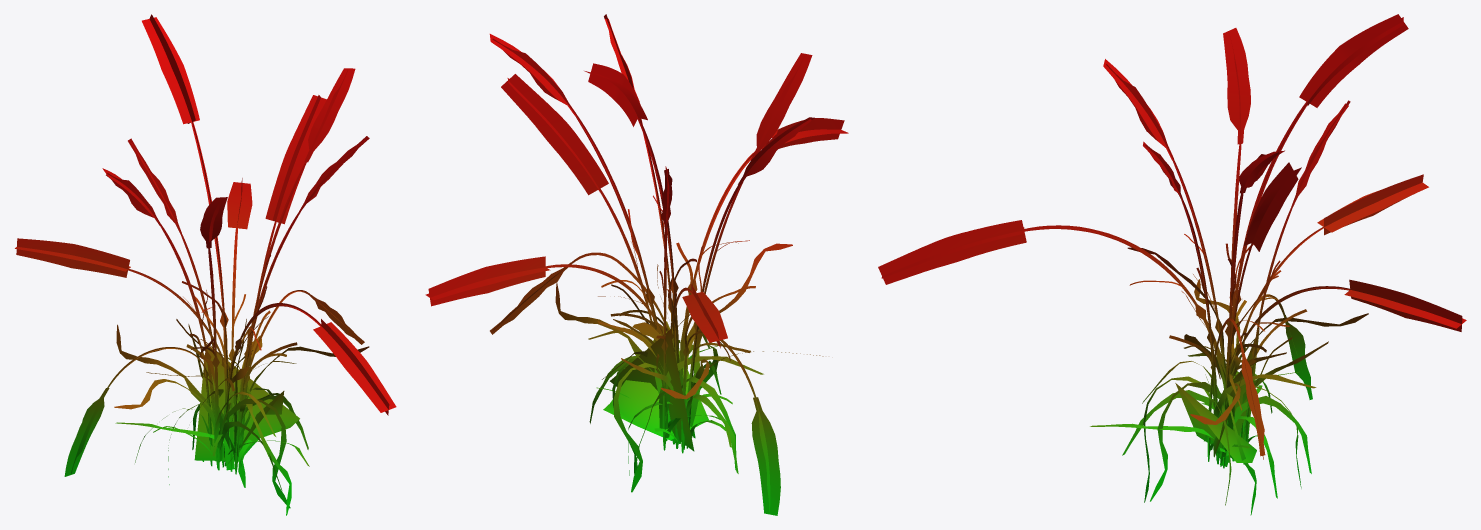
The model's file is slBm1_Var2_LOD0.fbx.
3 views of the same model, side by side, from view 1: azimuth 30°, elevation 25°; view 2: azimuth 150°, elevation 25°; view 3: azimuth 270°, elevation 25° (orthographic). The views are drawn at different scales.
Parts seen in each view (by area): view 1: _3b04_Var2_LOD0; view 2: _3b04_Var2_LOD0; view 3: _3b04_Var2_LOD0.
Part boxes in pixels (box(x1,y1,x2,y2)): _3b04_Var2_LOD0: box(15, 14, 396, 515); _3b04_Var2_LOD0: box(425, 14, 848, 515); _3b04_Var2_LOD0: box(878, 14, 1466, 515).
Size of the model in its own units: 36.11 by 52.89 by 58.04.
